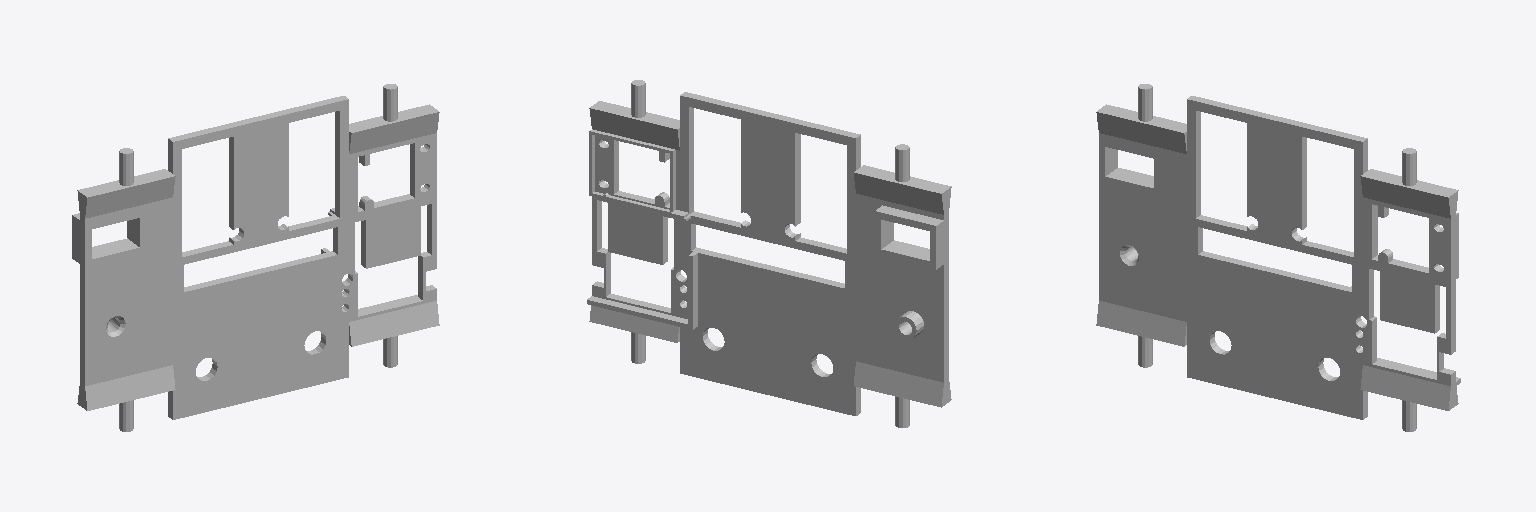
File: Корпус машины.obj
The picture shows the model from 3 angles: view 1: azimuth 30°, elevation 25°; view 2: azimuth 150°, elevation 25°; view 3: azimuth 330°, elevation 25°; orthographic projection.
Visible parts, largest first — view 1: Твердое тело1; view 2: Твердое тело1; view 3: Твердое тело1.
Part boxes in pixels (left/top/right/bottom): Твердое тело1: left=72, top=84, right=439, bottom=431; Твердое тело1: left=587, top=80, right=951, bottom=427; Твердое тело1: left=1096, top=84, right=1460, bottom=431.
Size of the model in its own units: 80 by 60.4 by 6.